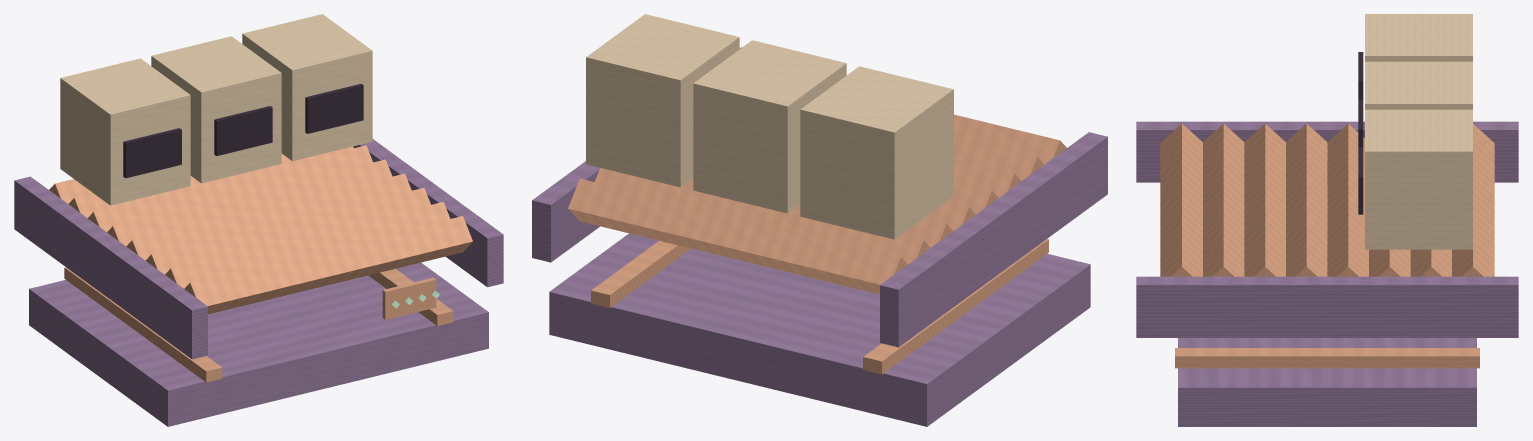
Rendered from atlas100-s084-a01.glb.
3 views of the same model, side by side, from view 1: azimuth 30°, elevation 25°; view 2: azimuth 150°, elevation 25°; view 3: azimuth 270°, elevation 25° (orthographic). The views are drawn at different scales.
Parts seen in each view (by area): view 1: atlas100-s084-a01:part-000, atlas100-s084-a01:part-013, atlas100-s084-a01:part-011, atlas100-s084-a01:part-015, atlas100-s084-a01:part-017, atlas100-s084-a01:part-010, atlas100-s084-a01:part-009, atlas100-s084-a01:part-006, atlas100-s084-a01:part-007, atlas100-s084-a01:part-008, atlas100-s084-a01:part-005, atlas100-s084-a01:part-012 (+8 smaller); view 2: atlas100-s084-a01:part-000, atlas100-s084-a01:part-013, atlas100-s084-a01:part-017, atlas100-s084-a01:part-015, atlas100-s084-a01:part-011, atlas100-s084-a01:part-003, atlas100-s084-a01:part-004, atlas100-s084-a01:part-012, atlas100-s084-a01:part-001, atlas100-s084-a01:part-002, atlas100-s084-a01:part-010, atlas100-s084-a01:part-009 (+4 smaller); view 3: atlas100-s084-a01:part-012, atlas100-s084-a01:part-000, atlas100-s084-a01:part-017, atlas100-s084-a01:part-002, atlas100-s084-a01:part-010, atlas100-s084-a01:part-007, atlas100-s084-a01:part-008, atlas100-s084-a01:part-009, atlas100-s084-a01:part-011, atlas100-s084-a01:part-006, atlas100-s084-a01:part-015, atlas100-s084-a01:part-013 (+4 smaller).
Part boxes in pixels (<box>): atlas100-s084-a01:part-000: <box>29,262,488,426</box>; atlas100-s084-a01:part-013: <box>60,58,190,205</box>; atlas100-s084-a01:part-011: <box>14,176,207,359</box>; atlas100-s084-a01:part-015: <box>151,36,281,183</box>; atlas100-s084-a01:part-017: <box>242,14,372,161</box>; atlas100-s084-a01:part-010: <box>184,216,472,314</box>; atlas100-s084-a01:part-009: <box>165,202,450,288</box>; atlas100-s084-a01:part-006: <box>107,159,392,246</box>; atlas100-s084-a01:part-007: <box>126,173,411,260</box>; atlas100-s084-a01:part-008: <box>145,188,430,274</box>; atlas100-s084-a01:part-005: <box>88,145,372,231</box>; atlas100-s084-a01:part-012: <box>353,139,503,287</box>; atlas100-s084-a01:part-000: <box>549,233,1090,426</box>; atlas100-s084-a01:part-013: <box>800,66,953,239</box>; atlas100-s084-a01:part-017: <box>586,14,739,187</box>; atlas100-s084-a01:part-015: <box>693,40,846,213</box>; atlas100-s084-a01:part-011: <box>880,132,1107,347</box>; atlas100-s084-a01:part-003: <box>568,178,907,294</box>; atlas100-s084-a01:part-004: <box>594,168,930,264</box>; atlas100-s084-a01:part-012: <box>532,47,741,262</box>; atlas100-s084-a01:part-001: <box>863,239,1048,374</box>; atlas100-s084-a01:part-002: <box>591,240,690,308</box>; atlas100-s084-a01:part-010: <box>954,114,1066,164</box>; atlas100-s084-a01:part-009: <box>954,136,1044,180</box>; atlas100-s084-a01:part-012: <box>1136,276,1518,337</box>; atlas100-s084-a01:part-000: <box>1178,338,1476,426</box>; atlas100-s084-a01:part-017: <box>1365,109,1472,249</box>; atlas100-s084-a01:part-002: <box>1175,348,1479,368</box>; atlas100-s084-a01:part-010: <box>1160,123,1202,276</box>; atlas100-s084-a01:part-007: <box>1286,123,1327,276</box>; atlas100-s084-a01:part-008: <box>1244,123,1285,276</box>; atlas100-s084-a01:part-009: <box>1203,123,1244,276</box>; atlas100-s084-a01:part-011: <box>1136,121,1518,182</box>; atlas100-s084-a01:part-006: <box>1327,123,1368,276</box>; atlas100-s084-a01:part-015: <box>1365,61,1472,109</box>; atlas100-s084-a01:part-013: <box>1365,14,1472,61</box>.
Bounding box in the file's own units: 2.4 × 1.73 × 2.3.
Materials: 5 (5 with a texture image).
